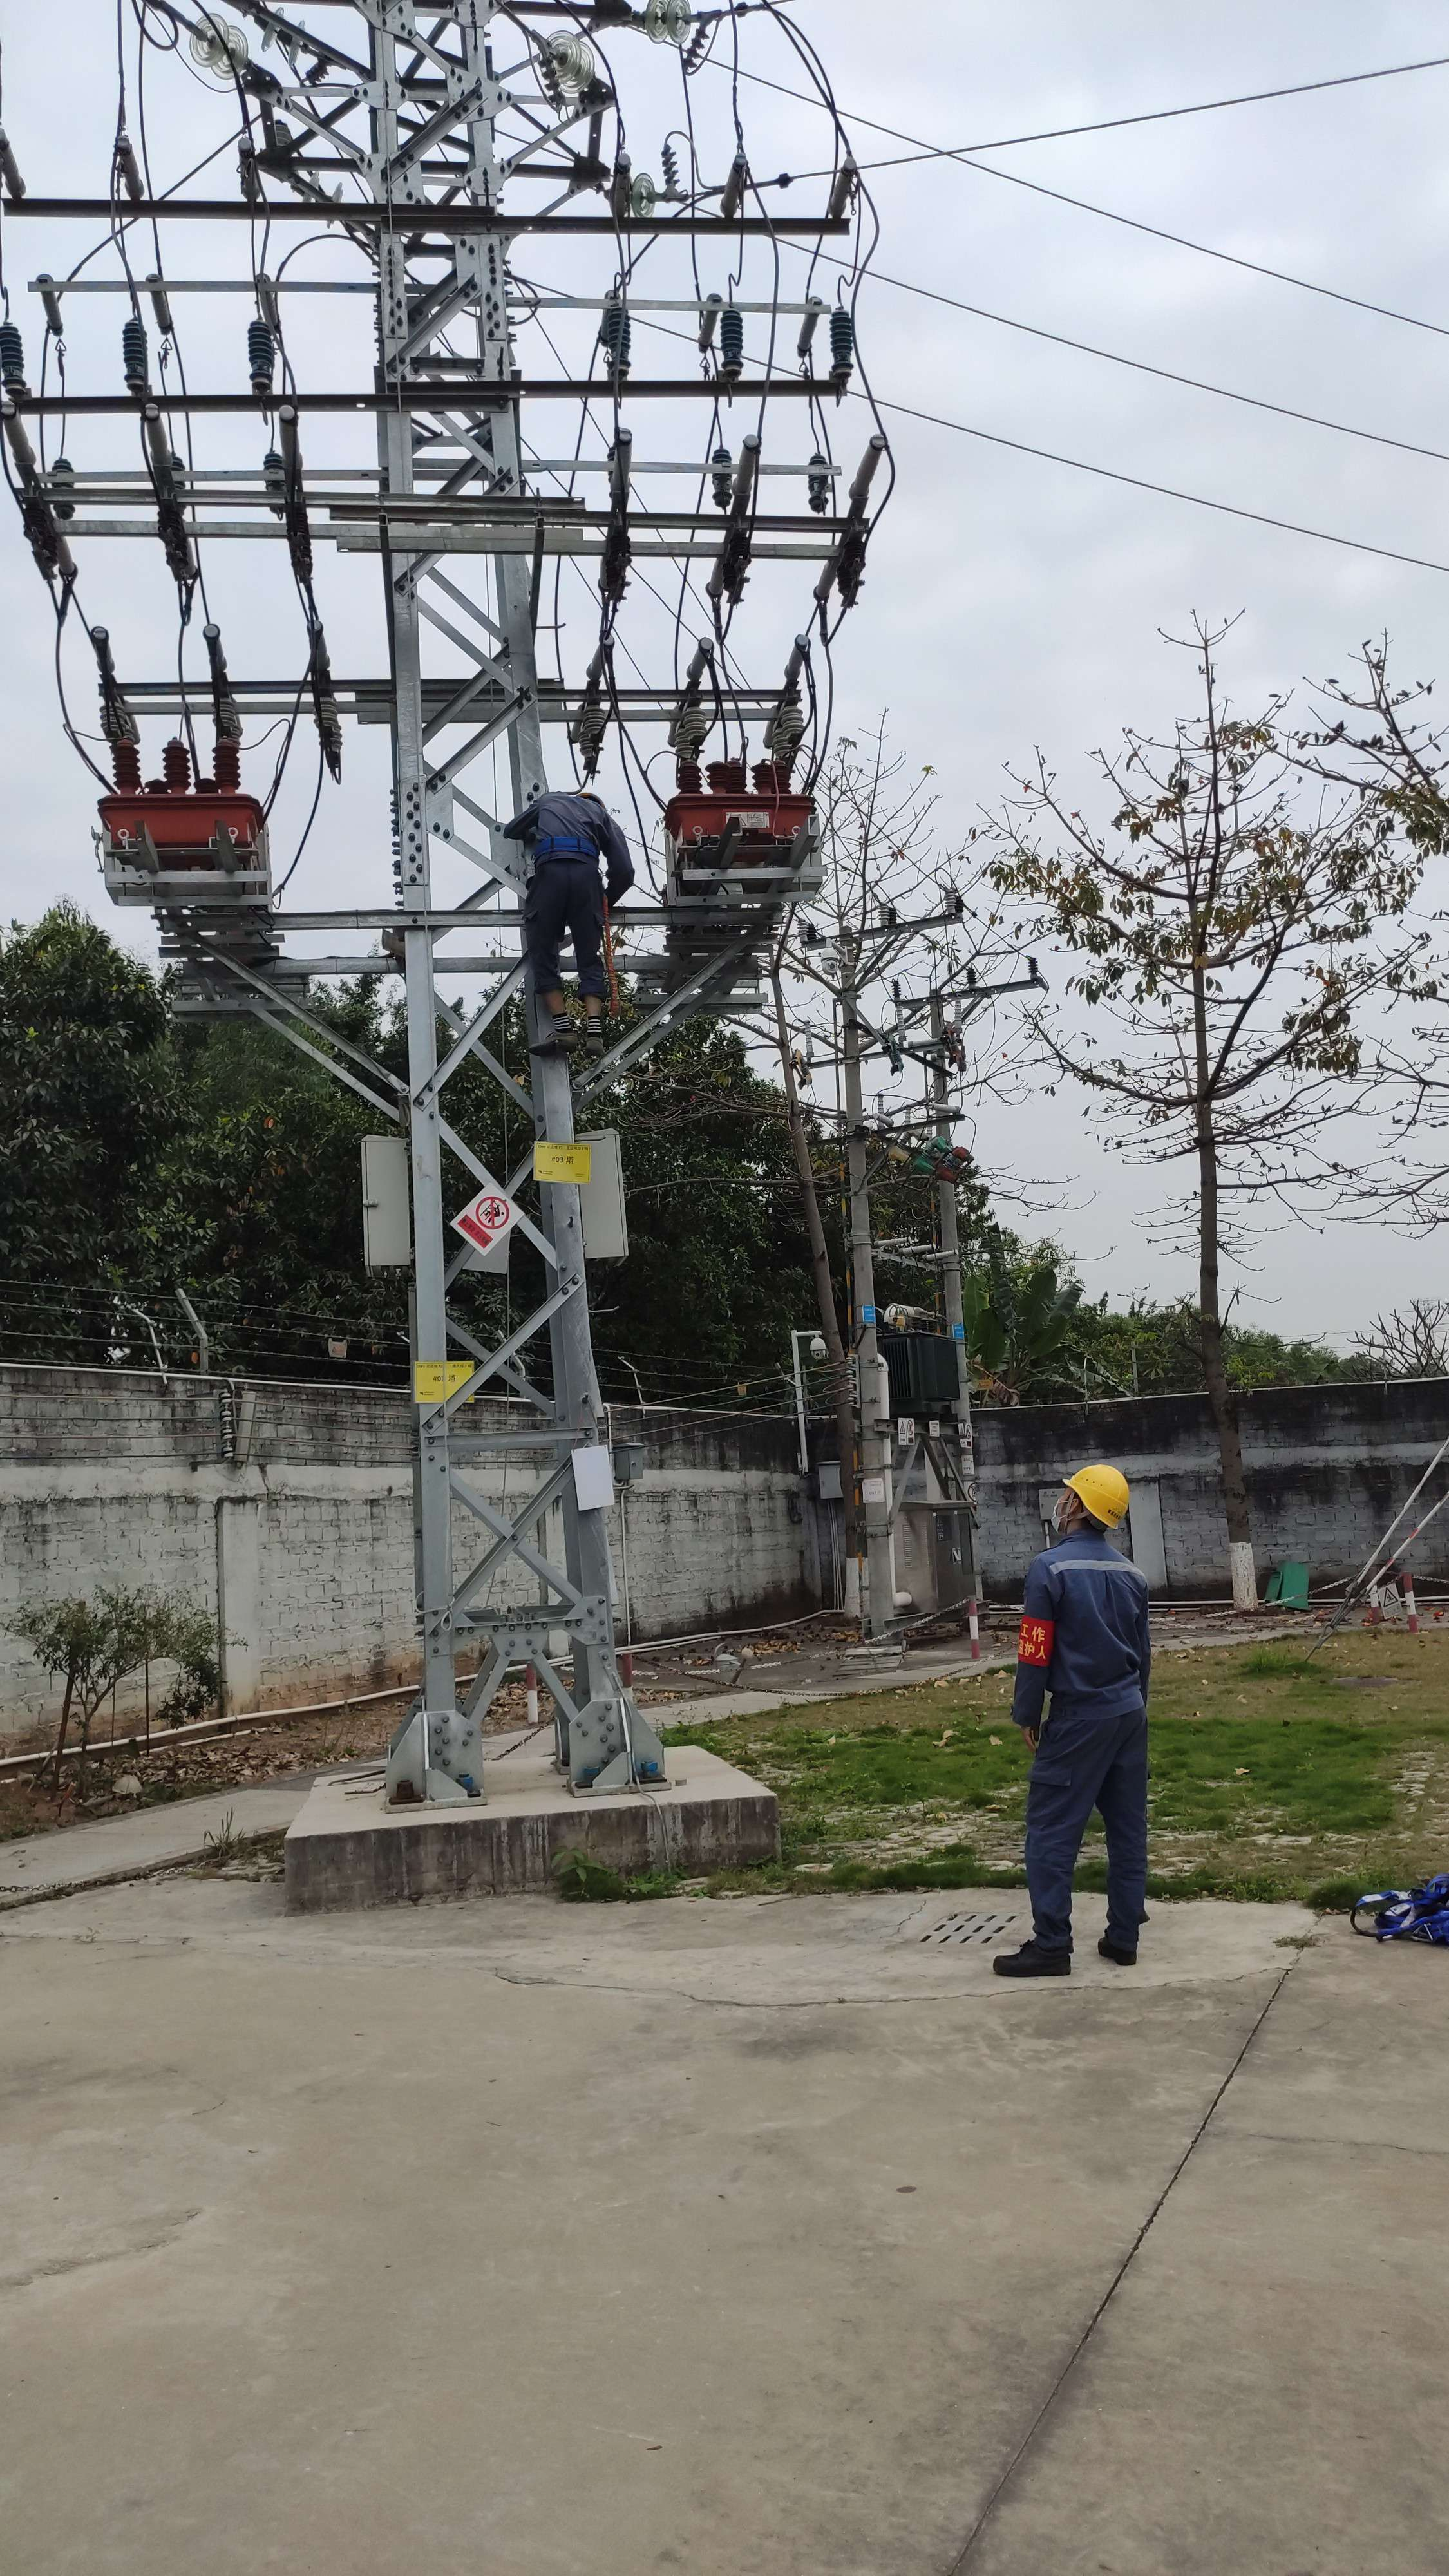downsuit: (1017, 1721, 1155, 1941), (524, 876, 617, 989)
upsuit: (1008, 1537, 1159, 1718), (504, 793, 630, 860)
wrongbottom: (536, 980, 607, 1023)
